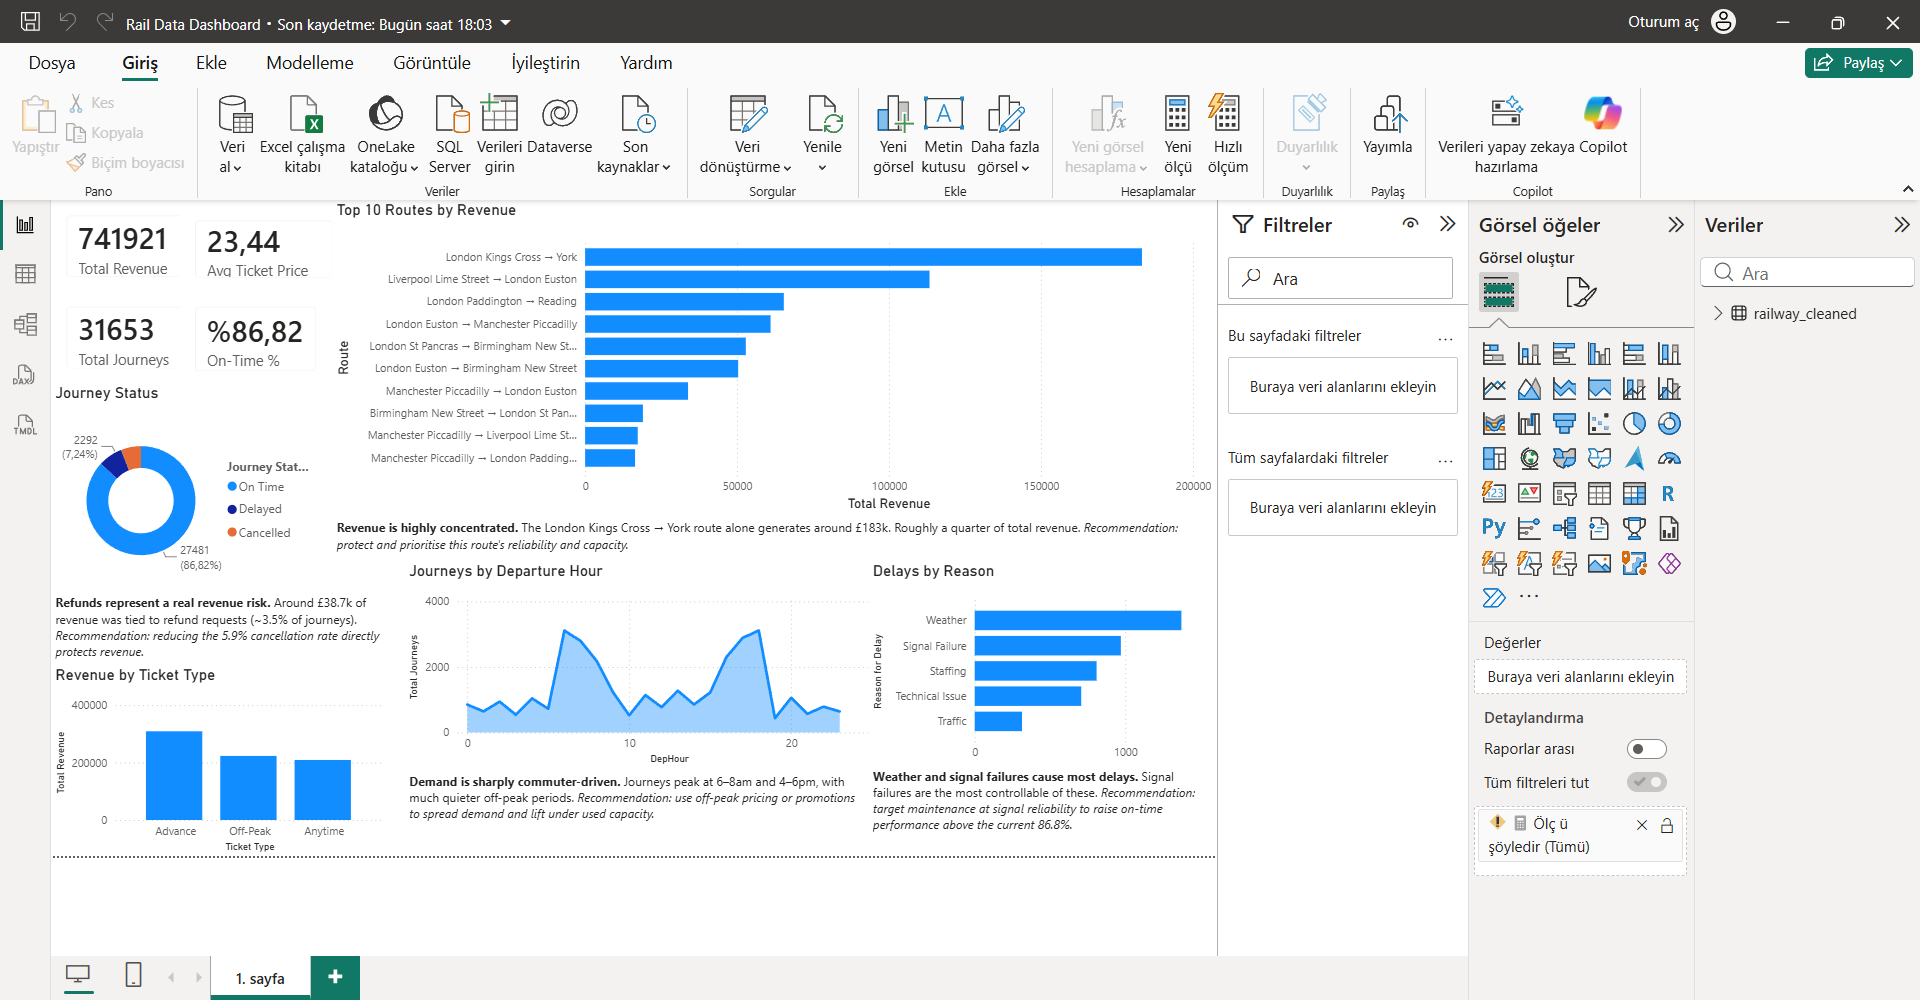

The dashboard page shown, as its layout file describes it:
{"tool":"powerbi","page":{"name":"1. sayfa","canvas":[1280,720],"ordinal":0},"visuals":[{"type":"actionButton","box":[0,0,100,40],"z":0},{"type":"cardVisual","fields":{"Data":["railway_cleaned.Total Revenue"]},"box":[0,0,168.6,102.9],"z":1000},{"type":"cardVisual","fields":{"Data":["railway_cleaned.Total Journeys"]},"box":[0,100,168.6,102.9],"z":2000},{"type":"cardVisual","fields":{"Data":["railway_cleaned.Avg Ticket Price"]},"box":[141.4,5.7,185.7,97.1],"z":3000},{"type":"cardVisual","fields":{"Data":["railway_cleaned.On-Time %"]},"box":[141.4,100,167.1,105.7],"z":4000},{"type":"clusteredBarChart","title":"Top 10 Routes by Revenue","fields":{"Category":["railway_cleaned.Route"],"Y":["railway_cleaned.Total Revenue"]},"box":[308.7,0,970.2,345.8],"z":5000},{"type":"donutChart","title":"Journey Status","fields":{"Category":["railway_cleaned.Journey Status"],"Y":["railway_cleaned.Total Journeys"]},"box":[0,201.7,290.9,226.4],"z":6000},{"type":"areaChart","title":"Journeys by Departure Hour","fields":{"Category":["railway_cleaned.DepHour"],"Y":["railway_cleaned.Total Journeys"]},"box":[388.3,396.6,528.3,227.8],"z":7000},{"type":"barChart","title":"Delays by Reason","fields":{"Category":["railway_cleaned.Reason for Delay"],"Y":["railway_cleaned.Total Journeys"]},"box":[897.4,396.6,382.9,237.1],"z":8000},{"type":"columnChart","title":"Revenue by Ticket Type","fields":{"Category":["railway_cleaned.Ticket Type"],"Y":["railway_cleaned.Total Revenue"]},"box":[0,510.5,370.5,209.9],"z":9000},{"type":"textbox","box":[308.7,345.8,941.3,50.8],"z":10000},{"type":"textbox","box":[388.3,624.4,502.2,67.2],"z":11000},{"type":"textbox","box":[897.4,618.9,381.5,101.5],"z":12000},{"type":"textbox","box":[0,428.1,380.1,86.4],"z":13000}]}

Visuals, with their boxes on the page's 1280x720 design canvas (x1, y1, x2, y2). These are canvas units, not pixel positions in the 1920x1000 screenshot, which may show the page scaled, cropped or inside an application window:
actionButton: 0, 0, 100, 40
cardVisual - railway_cleaned.Total Revenue: 0, 0, 169, 103
cardVisual - railway_cleaned.Total Journeys: 0, 100, 169, 203
cardVisual - railway_cleaned.Avg Ticket Price: 141, 6, 327, 103
cardVisual - railway_cleaned.On-Time %: 141, 100, 308, 206
"Top 10 Routes by Revenue" clusteredBarChart: 309, 0, 1279, 346
"Journey Status" donutChart: 0, 202, 291, 428
"Journeys by Departure Hour" areaChart: 388, 397, 917, 624
"Delays by Reason" barChart: 897, 397, 1280, 634
"Revenue by Ticket Type" columnChart: 0, 510, 370, 720
textbox: 309, 346, 1250, 397
textbox: 388, 624, 890, 692
textbox: 897, 619, 1279, 720
textbox: 0, 428, 380, 514
